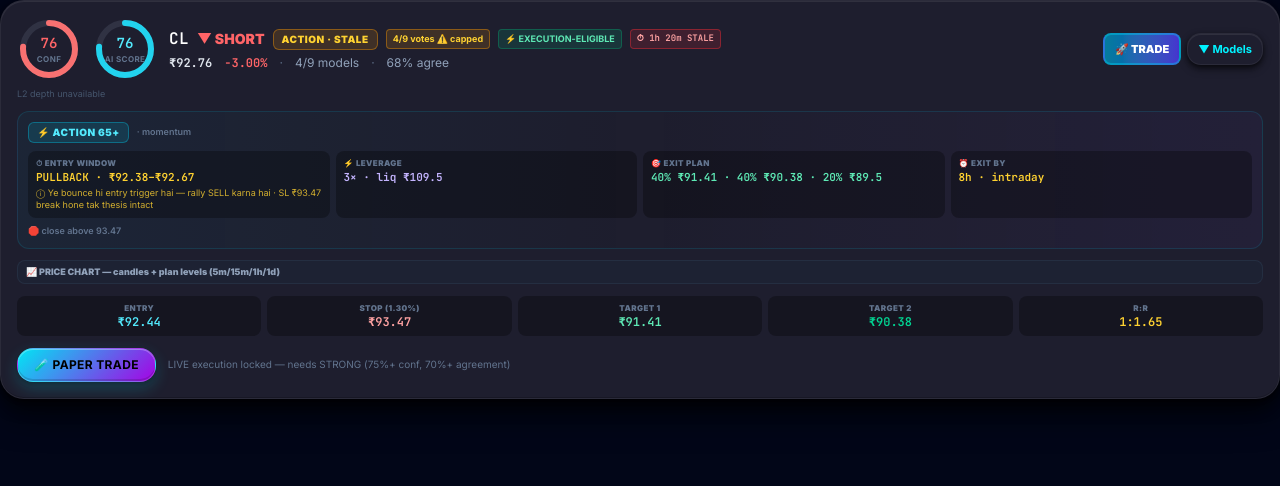
Test: v18.6.1 Fix 3b — stale paper-trade confirm bar › stale: PAPER click opens the confirm bar instead of firing
This screenshot has width=1280, height=486.
What coordinates should you click on to do the following:
click the button "🧪 PAPER TRADE"
I would click on:
 (86, 365)
Its box is [17, 348, 156, 382].
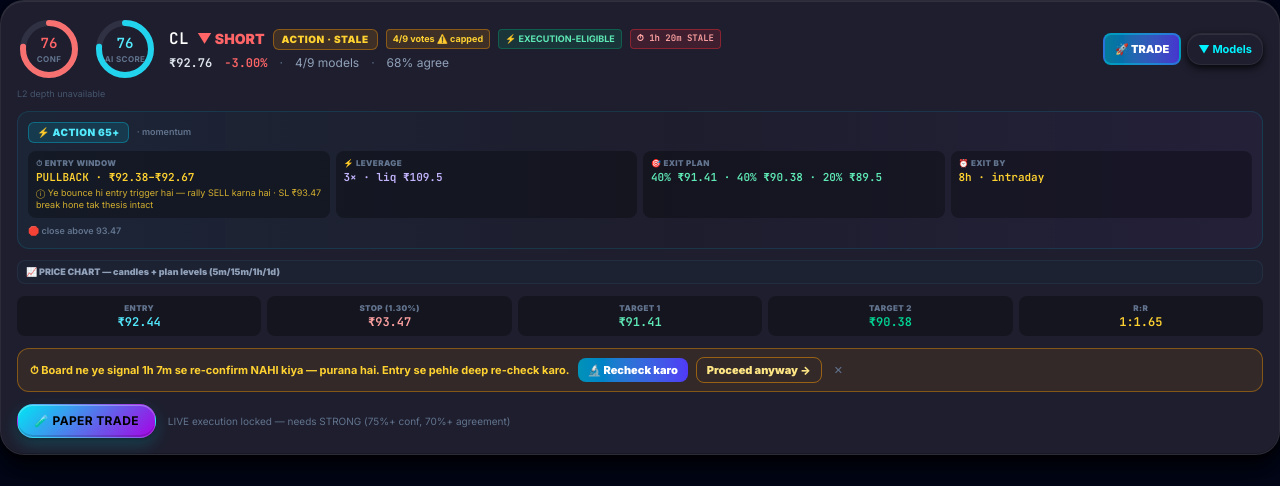
Expected: the element with test id "stale-confirm-bar" is shown, [17, 348, 1263, 392]
Expected: the text "re-confirm NAHI kiya" is shown, [172, 363, 570, 377]
